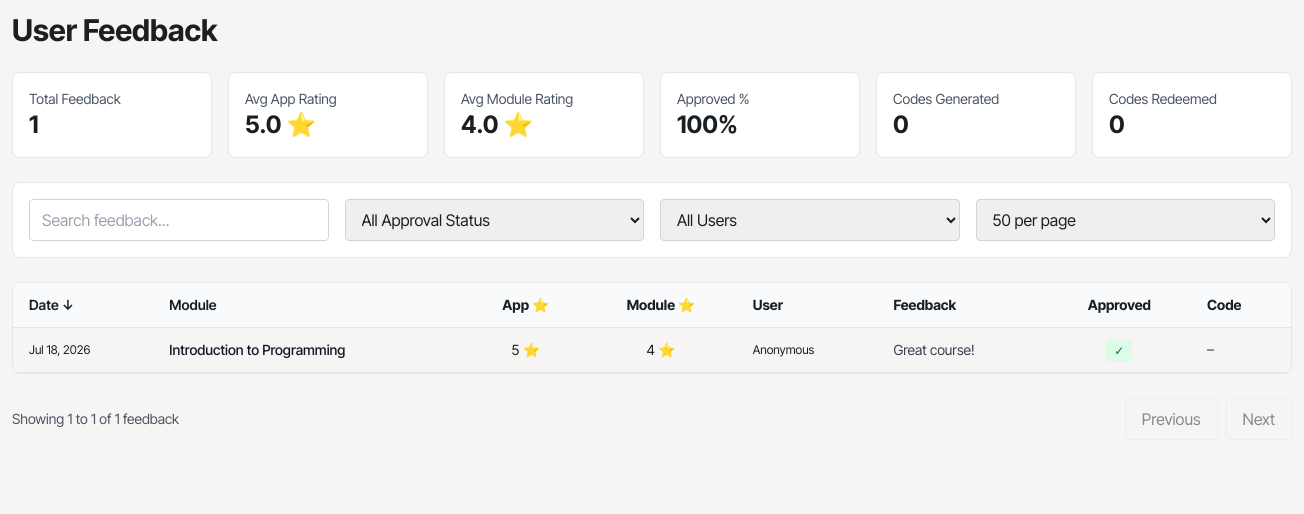
Scenario: AdminFeedbackPage › clears the error once a later request succeeds
Click the button "Module".
click(193, 305)  # box [169,295,217,315]
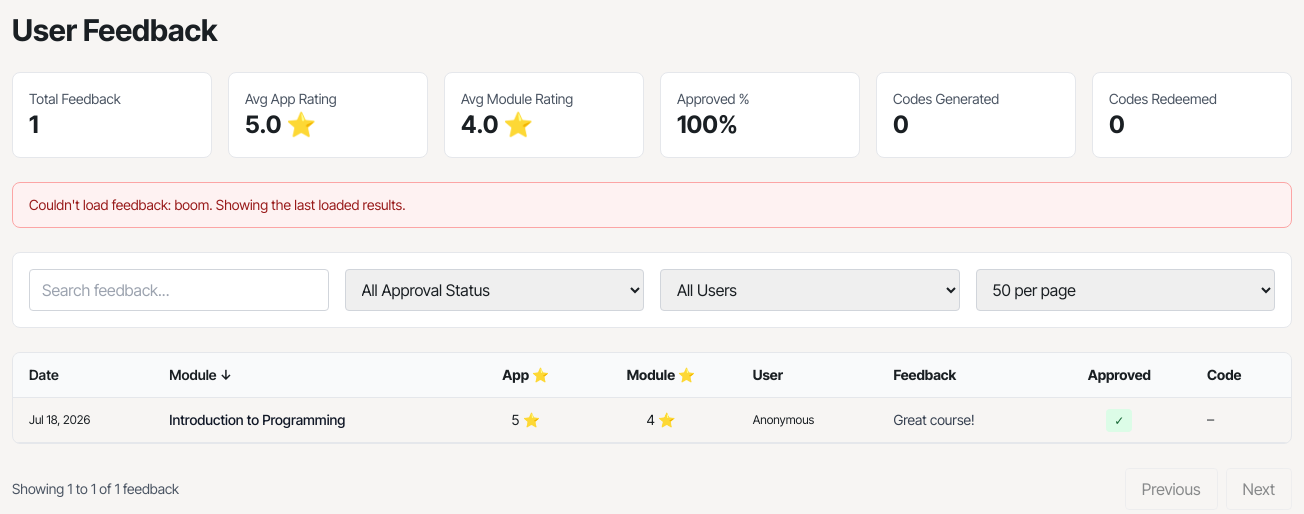
Check: the message "Couldn't load feedback: boom. Showing the last loaded results." is shown, box [12,182,1292,228]
Click the button "Date".
click(44, 375)  # box [29,365,59,385]
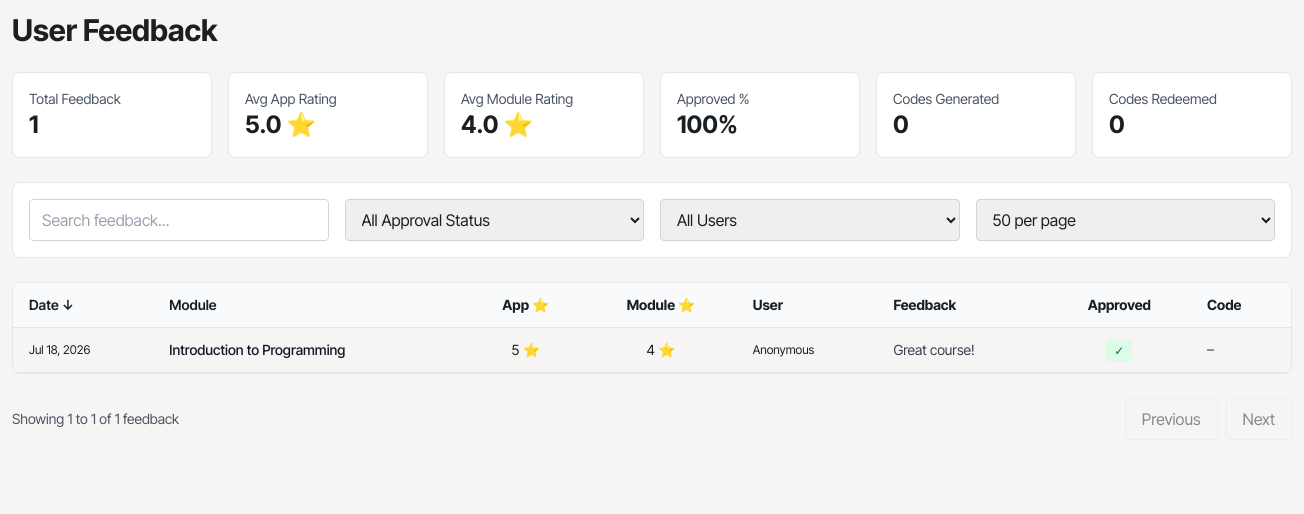
Check: the message "Couldn't load feedback: boom. Showing the last loaded results." is gone
